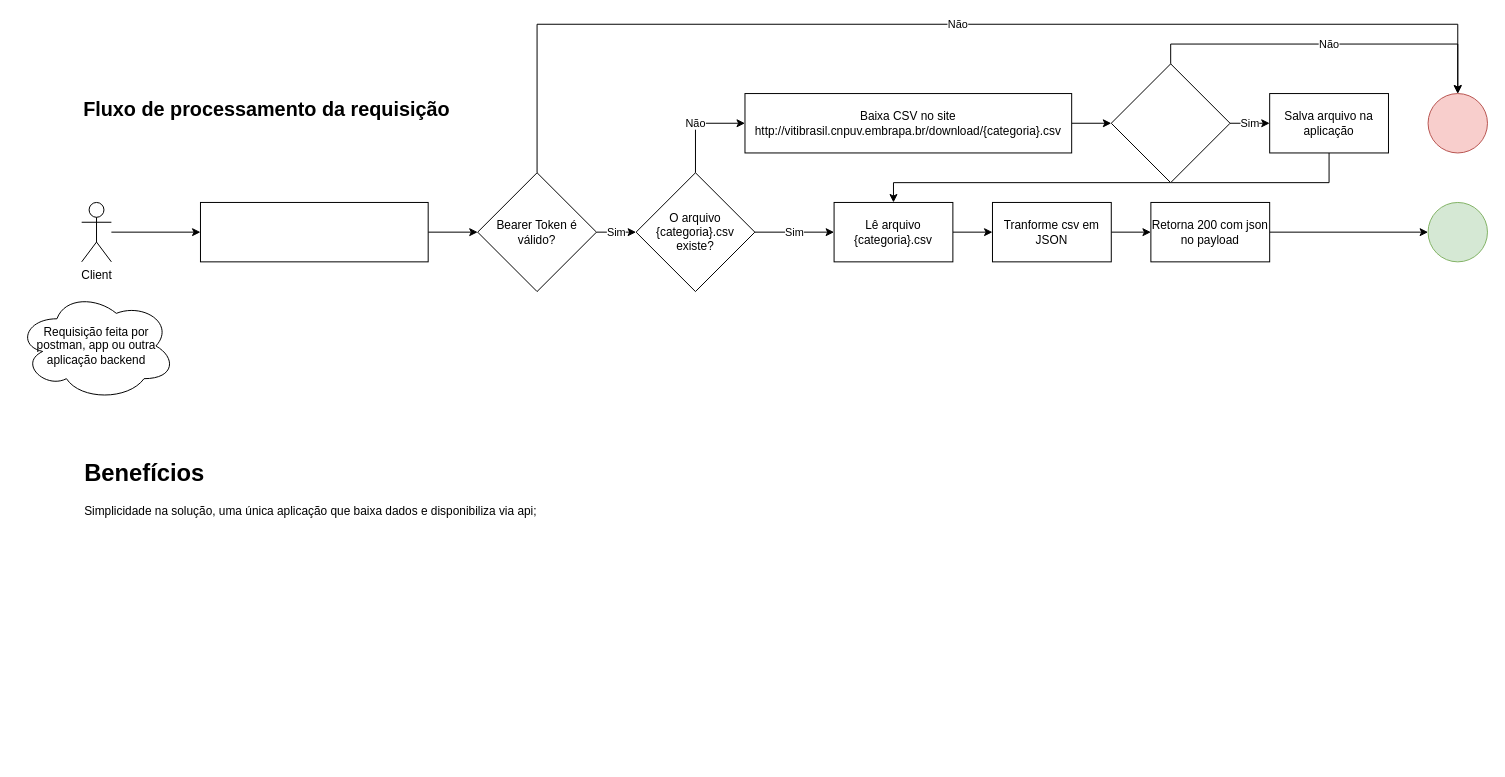
This 1505x777 diagram has some shape labels left out. Each missing label, with the centre of its shape:
API GET: /embrapa/vitivinicultura/{categoria}: pixel 313 231
Arquivo baixado com sucesso?: pixel 1170 123
Fim Erro: pixel 1457 123
Fim Sucesso: pixel 1457 231
